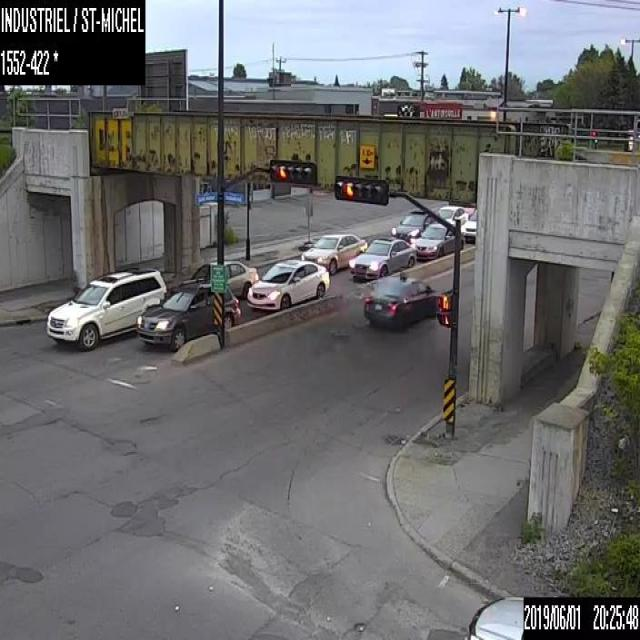vehicle: (44, 265, 166, 351), (136, 282, 240, 351), (246, 258, 330, 312), (364, 274, 441, 326), (348, 236, 416, 280), (180, 261, 257, 299), (300, 233, 367, 272), (412, 222, 464, 261), (391, 209, 439, 240), (435, 205, 465, 227), (461, 206, 476, 244)
